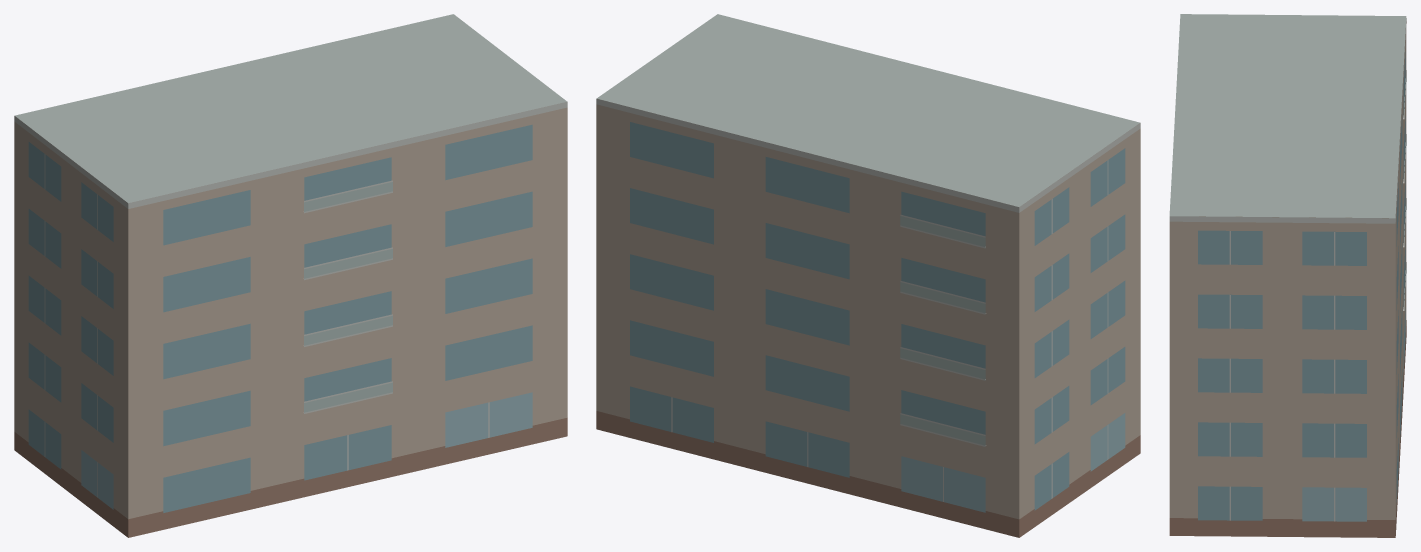
File: survey-upis-33008503.glb
3 views of the same model, side by side, from view 1: azimuth 30°, elevation 25°; view 2: azimuth 150°, elevation 25°; view 3: azimuth 270°, elevation 25° (orthographic). The views are drawn at different scales.
Visible parts, largest first — view 1: survey-upis-33008503.tmp; view 2: survey-upis-33008503.tmp; view 3: survey-upis-33008503.tmp.
Part boxes in pixels (bbox=[...]): survey-upis-33008503.tmp: bbox=[14, 14, 567, 537]; survey-upis-33008503.tmp: bbox=[596, 14, 1140, 537]; survey-upis-33008503.tmp: bbox=[1169, 14, 1406, 537].
Bounding box in the file's own units: 19.18 × 14 × 9.41.
